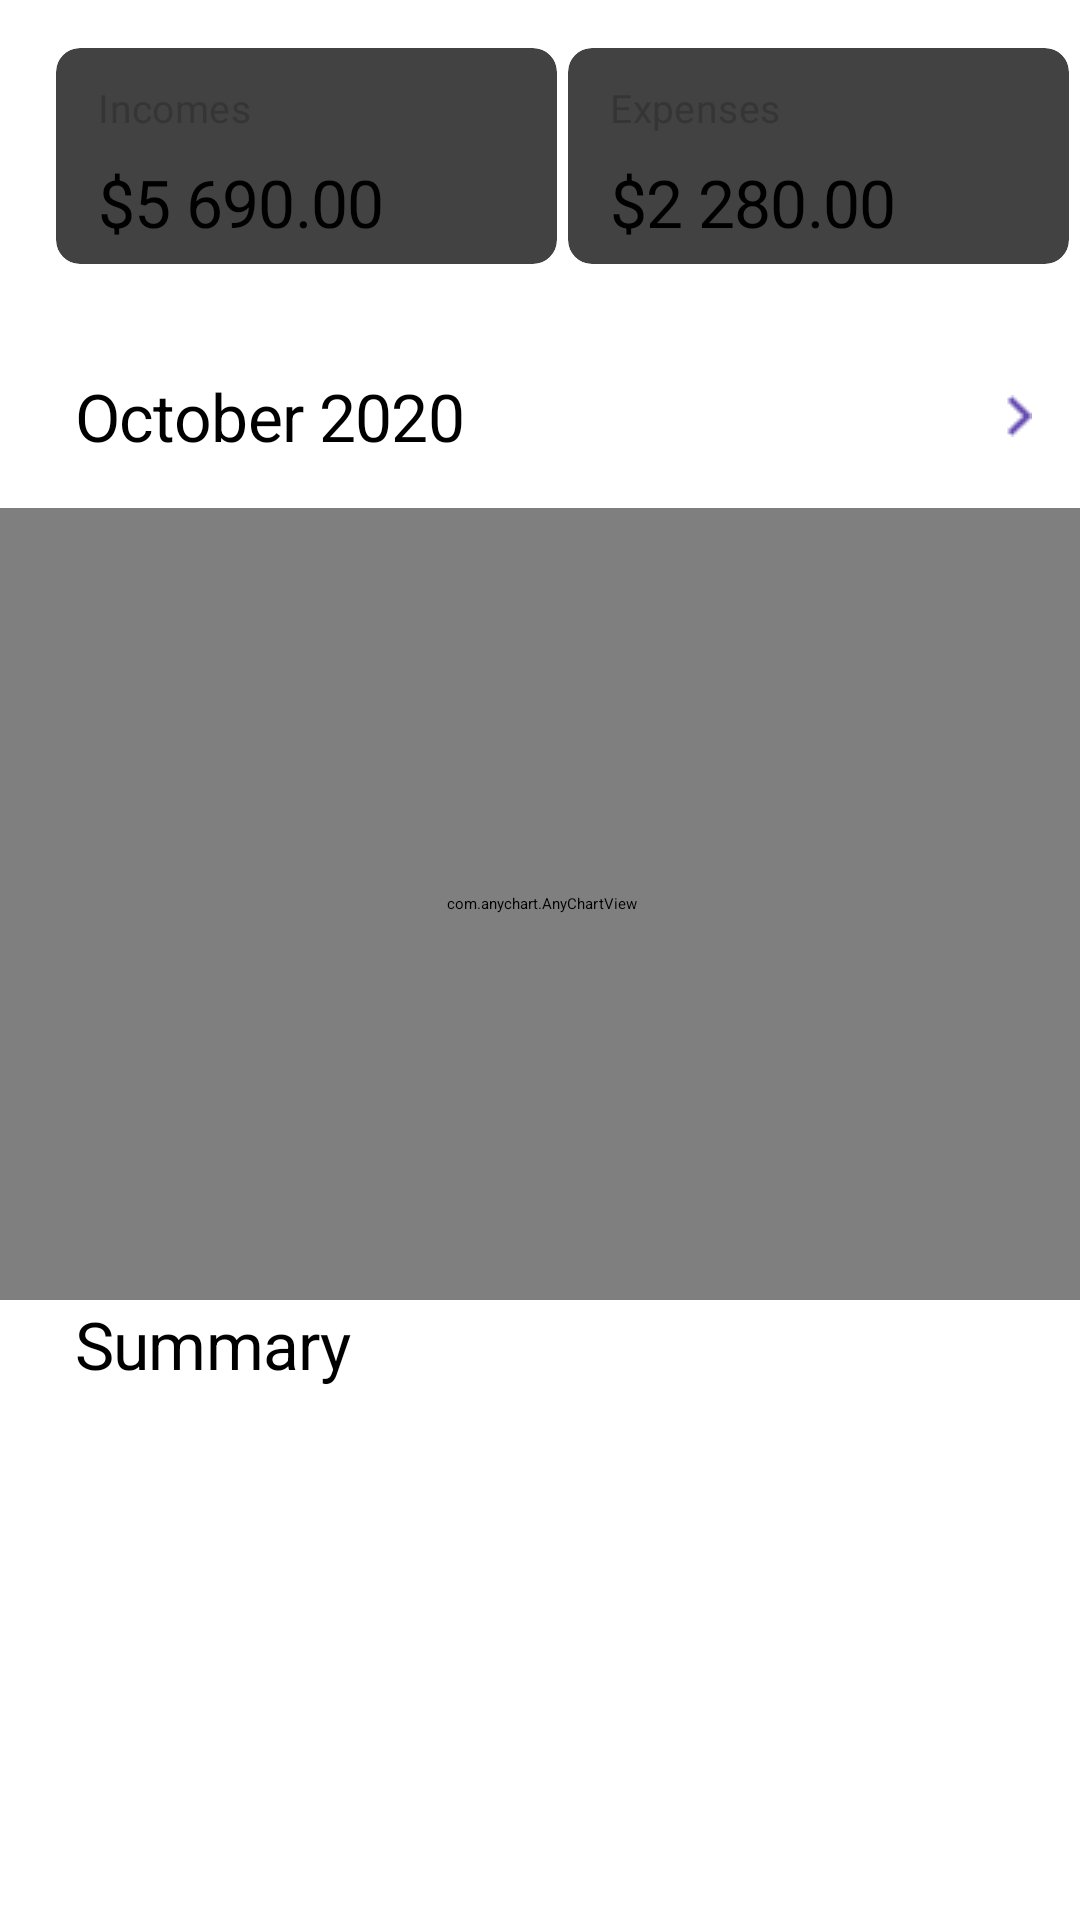

Named icons in this screenshot (1080px×1920px) and their bounding boxes, [x1,y1,x2,y2]:
arrow: [1007,395,1032,437]
